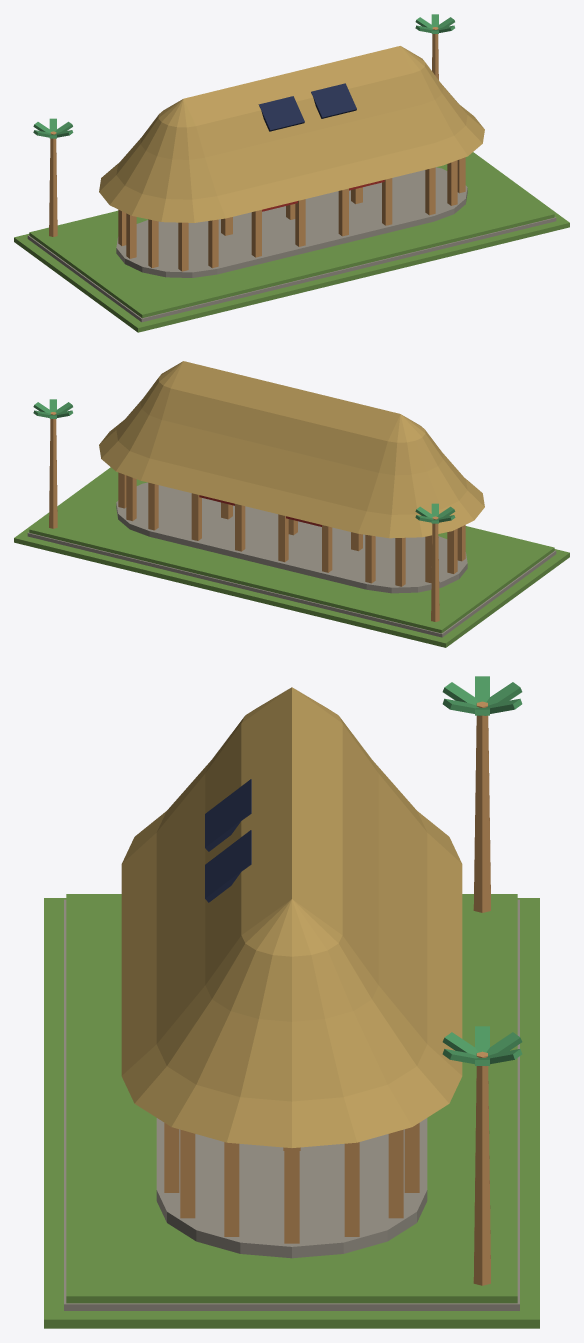
File: house-2x1-2f-fale-a-solar.glb
3 renders of one model, top to bottom at view 1: azimuth 30°, elevation 25°; view 2: azimuth 150°, elevation 25°; view 3: azimuth 270°, elevation 25°, orthographic. The views are drawn at different scales.
Visible parts, largest first — view 1: house-2x1-2f-fale-a-solar; view 2: house-2x1-2f-fale-a-solar; view 3: house-2x1-2f-fale-a-solar.
Boxes of the visible parts, <box> form: house-2x1-2f-fale-a-solar: <box>14,14,569,332</box>; house-2x1-2f-fale-a-solar: <box>14,361,569,647</box>; house-2x1-2f-fale-a-solar: <box>44,676,539,1328</box>.
Bounding box in the file's own units: 1.99 × 0.715 × 0.99.
Materials: 1 (1 with a texture image).
